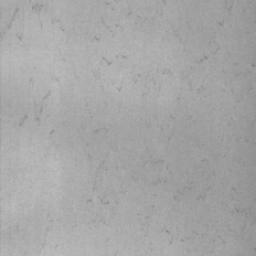Silk spot: (29, 78, 43, 126), (7, 8, 19, 29), (232, 208, 251, 217), (32, 3, 46, 14), (19, 114, 28, 127), (93, 127, 108, 134), (101, 57, 112, 66), (196, 56, 208, 64)
